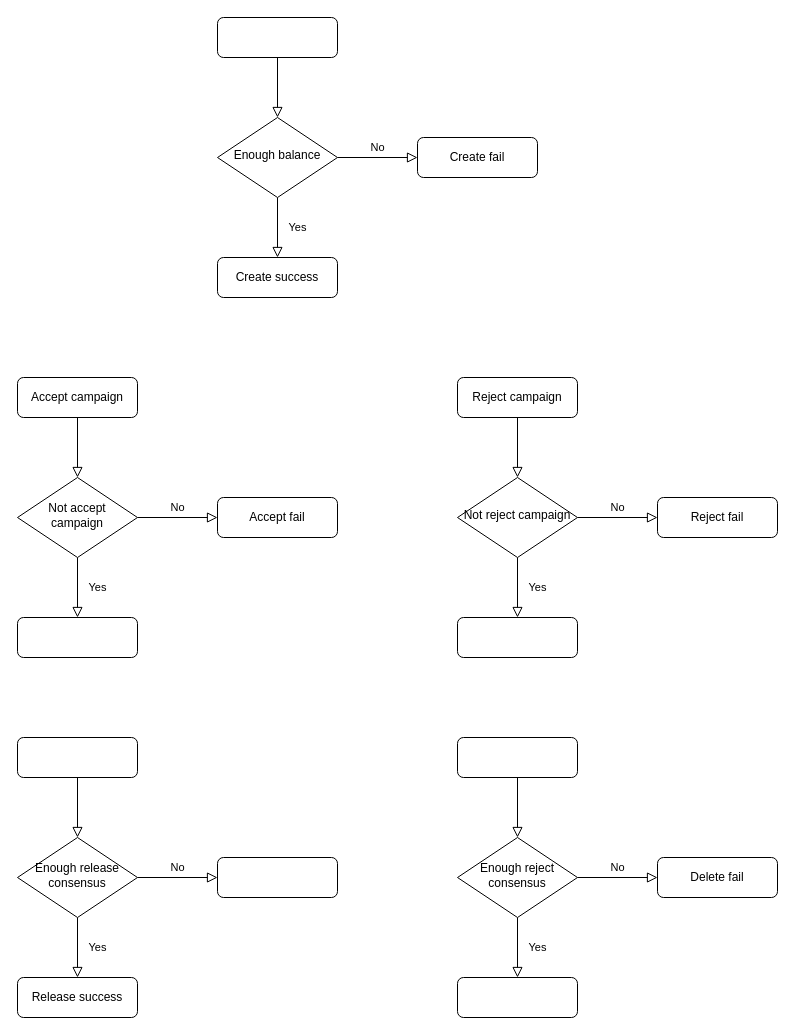
Image size: 795x1035. Some labels were removed from this diagram. The centre of each missing label's shape, as x and y in pixels:
"Accept success" goes at [77,637].
"Create campaign" goes at [277,37].
"Delete" goes at [517,757].
"Delete success" goes at [517,997].
"Reject success" goes at [517,637].
"Release" goes at [77,757].
"Release fail" goes at [277,877].
